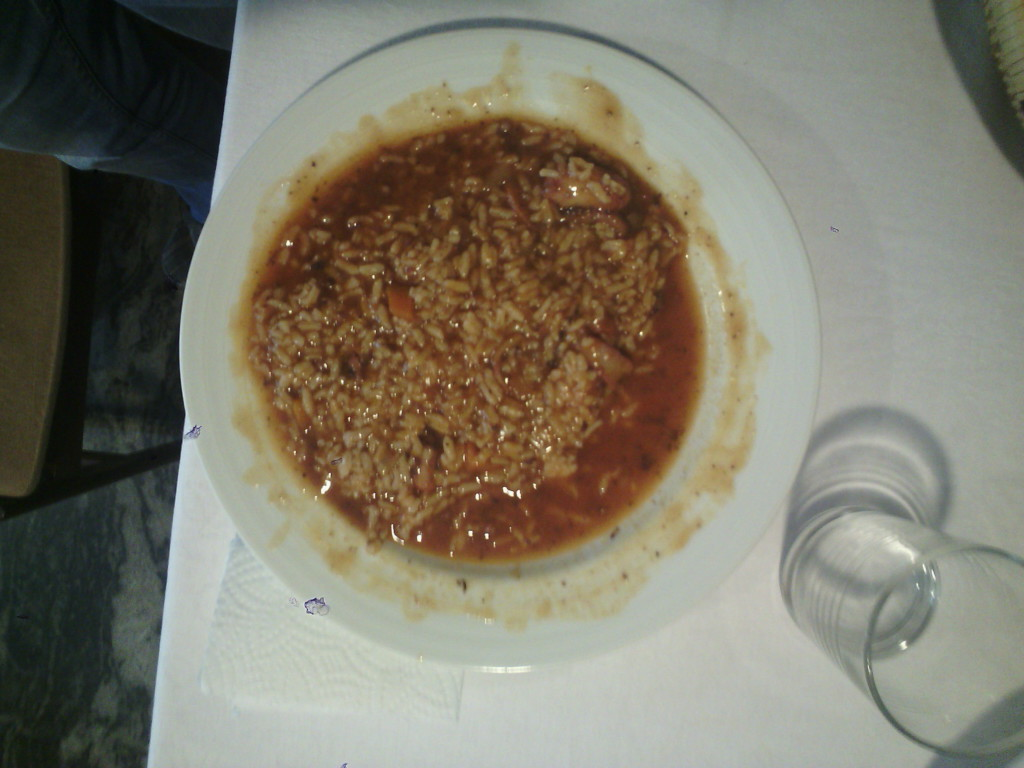81-100: (182, 31, 821, 669)
